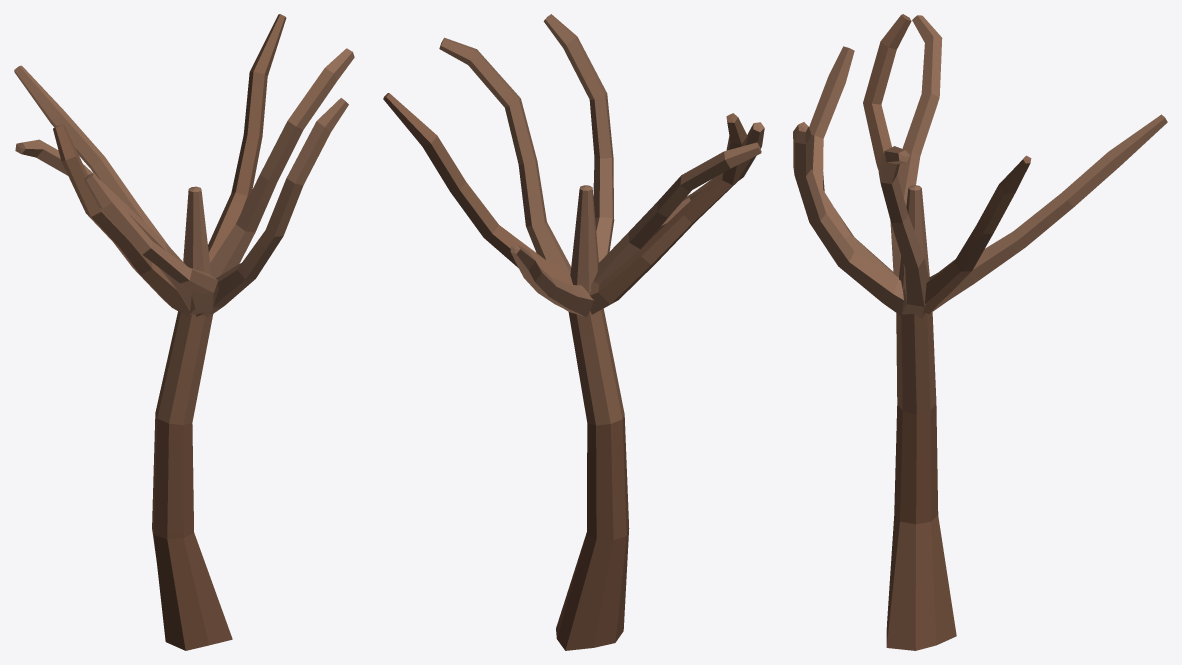
The model's file is naked_tree_1.fbx.
3 renders of one model, left to right at view 1: azimuth 30°, elevation 25°; view 2: azimuth 150°, elevation 25°; view 3: azimuth 270°, elevation 25°, orthographic.
Parts seen in each view (by area): view 1: naked_tree_1; view 2: naked_tree_1; view 3: naked_tree_1.
Boxes of the visible parts, bbox=[...] form: naked_tree_1: bbox=[14, 14, 354, 650]; naked_tree_1: bbox=[383, 14, 764, 650]; naked_tree_1: bbox=[793, 14, 1167, 650].
Bounding box in the file's own units: 322 × 521 × 316.
